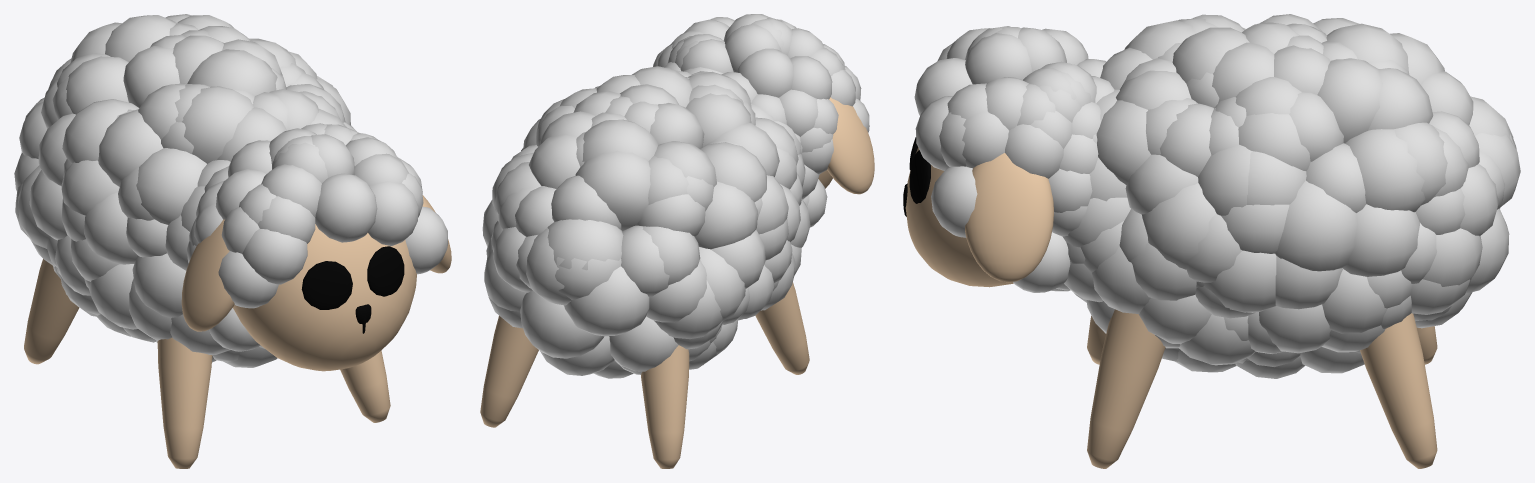
The model's file is LVL4-Oveja.fbx.
3 views of the same model, side by side, from view 1: azimuth 30°, elevation 25°; view 2: azimuth 150°, elevation 25°; view 3: azimuth 270°, elevation 25° (orthographic). The views are drawn at different scales.
Parts seen in each view (by area): view 1: Cordero; view 2: Cordero; view 3: Cordero.
Boxes of the visible parts, x1,y1,x2,y2 form: Cordero: [14, 14, 451, 468]; Cordero: [480, 14, 874, 468]; Cordero: [903, 14, 1520, 468].
Size of the model in its own units: 0.2177 by 0.251 by 0.363.
